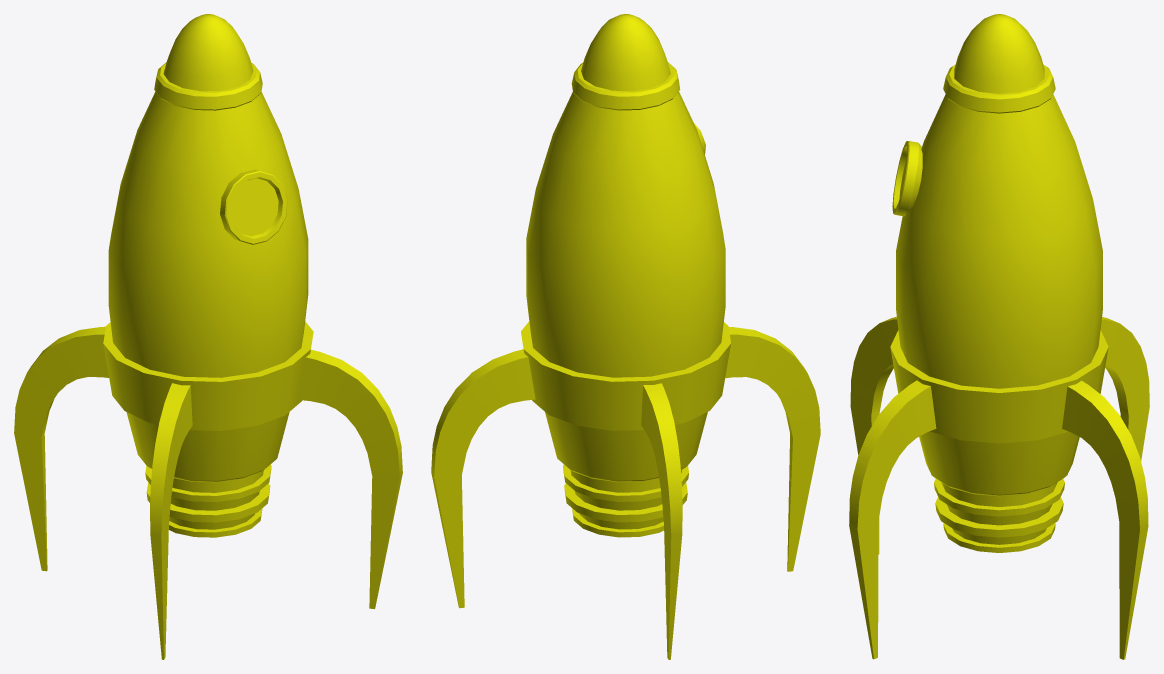
Rendered from BM_Rocket.fbx.
3 views of the same model, side by side, from view 1: azimuth 30°, elevation 25°; view 2: azimuth 150°, elevation 25°; view 3: azimuth 270°, elevation 25° (orthographic). The views are drawn at different scales.
Parts seen in each view (by area): view 1: BM_Rocket; view 2: BM_Rocket; view 3: BM_Rocket.
Part boxes in pixels (box(x1,y1,x2,y2)): BM_Rocket: box(14, 14, 402, 659); BM_Rocket: box(431, 14, 820, 659); BM_Rocket: box(849, 14, 1149, 659).
Size of the model in its own units: 89.74 by 194 by 89.74.
